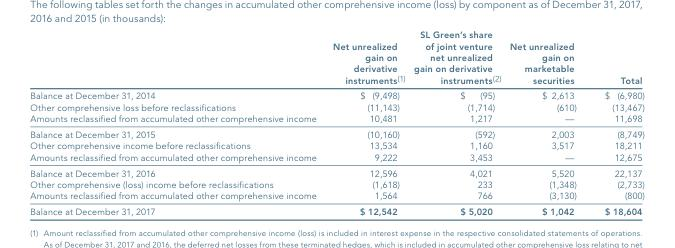table: (29, 28, 643, 216)
table column: (29, 28, 323, 216), (408, 28, 504, 216), (323, 28, 408, 216), (504, 28, 589, 216), (589, 28, 643, 216)
table column header: (29, 28, 643, 87)
table row: (29, 28, 643, 87), (29, 87, 643, 101), (29, 112, 643, 126), (29, 164, 643, 178), (29, 189, 643, 203), (29, 126, 643, 139), (29, 151, 643, 164), (29, 203, 643, 216), (29, 139, 643, 151), (29, 101, 643, 112), (29, 178, 643, 189)
